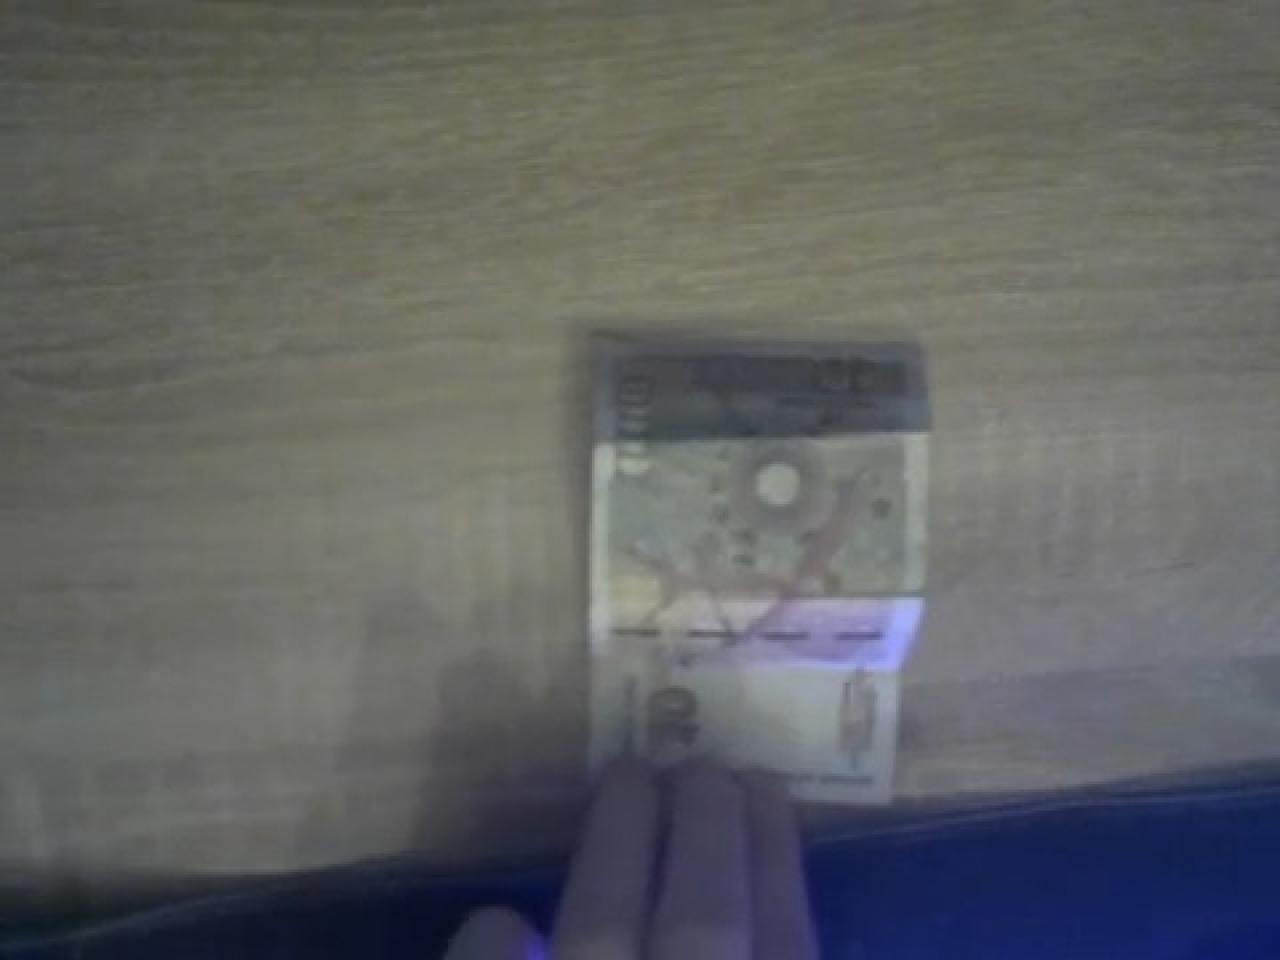10leva: (592, 339, 936, 803)
